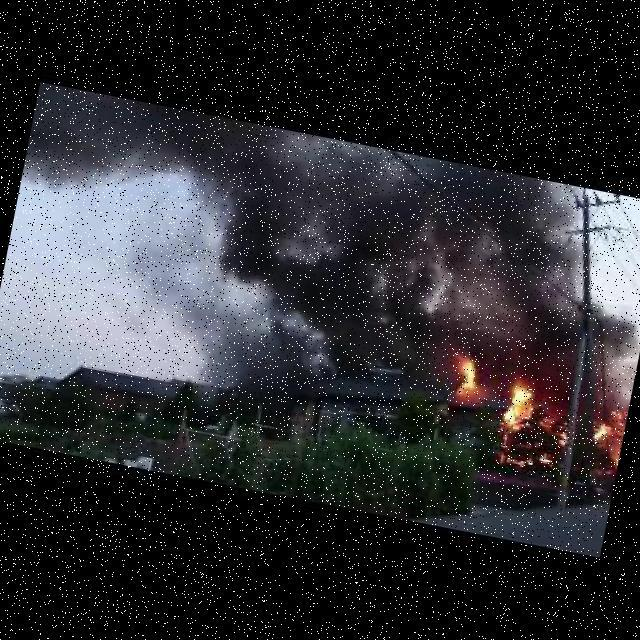Fire: (502, 384, 539, 431), (453, 355, 481, 395), (499, 453, 534, 467), (591, 423, 608, 441), (539, 455, 552, 465)
Smoke: (5, 91, 589, 382), (556, 297, 640, 429)
